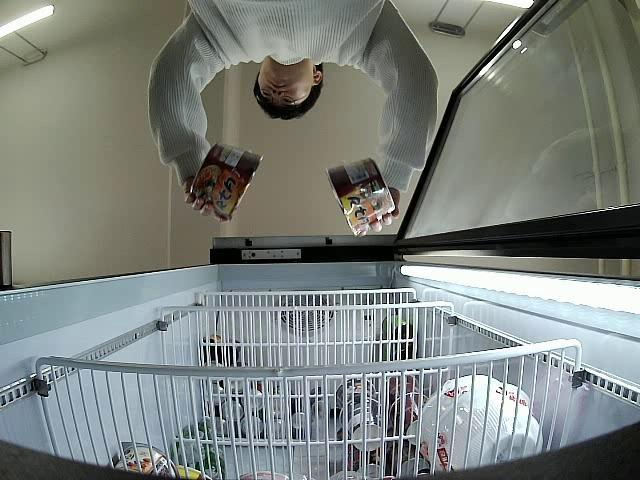05_nuguri_L: (190, 142, 263, 222), (324, 156, 395, 236)
